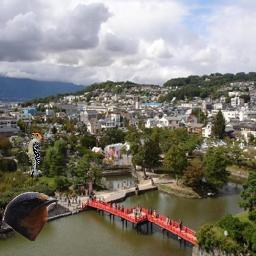Swallow: (2, 191, 60, 241)
Woodpecker: (18, 132, 42, 179)
